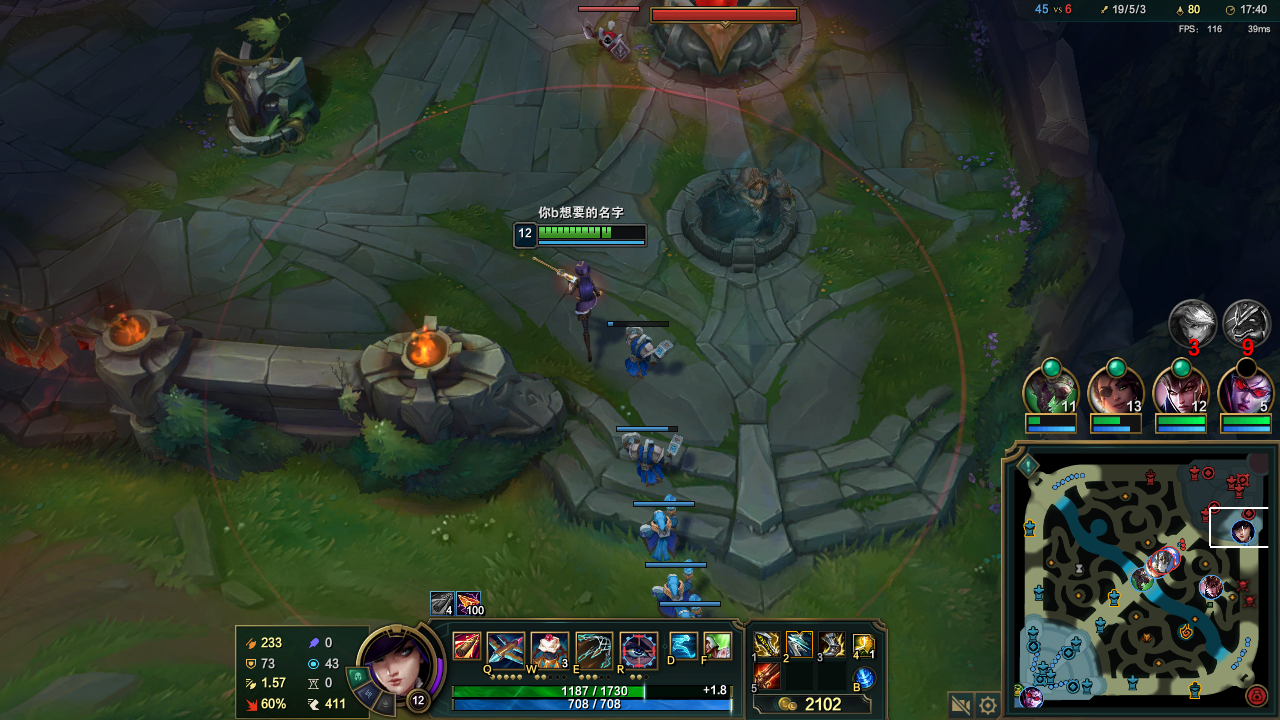DFSJ: (649, 9, 795, 71)
DFXB: (587, 15, 630, 55)
KF: (788, 636, 814, 646)
WFXB: (619, 435, 675, 480), (645, 516, 684, 559), (622, 331, 664, 367), (655, 578, 696, 602)
